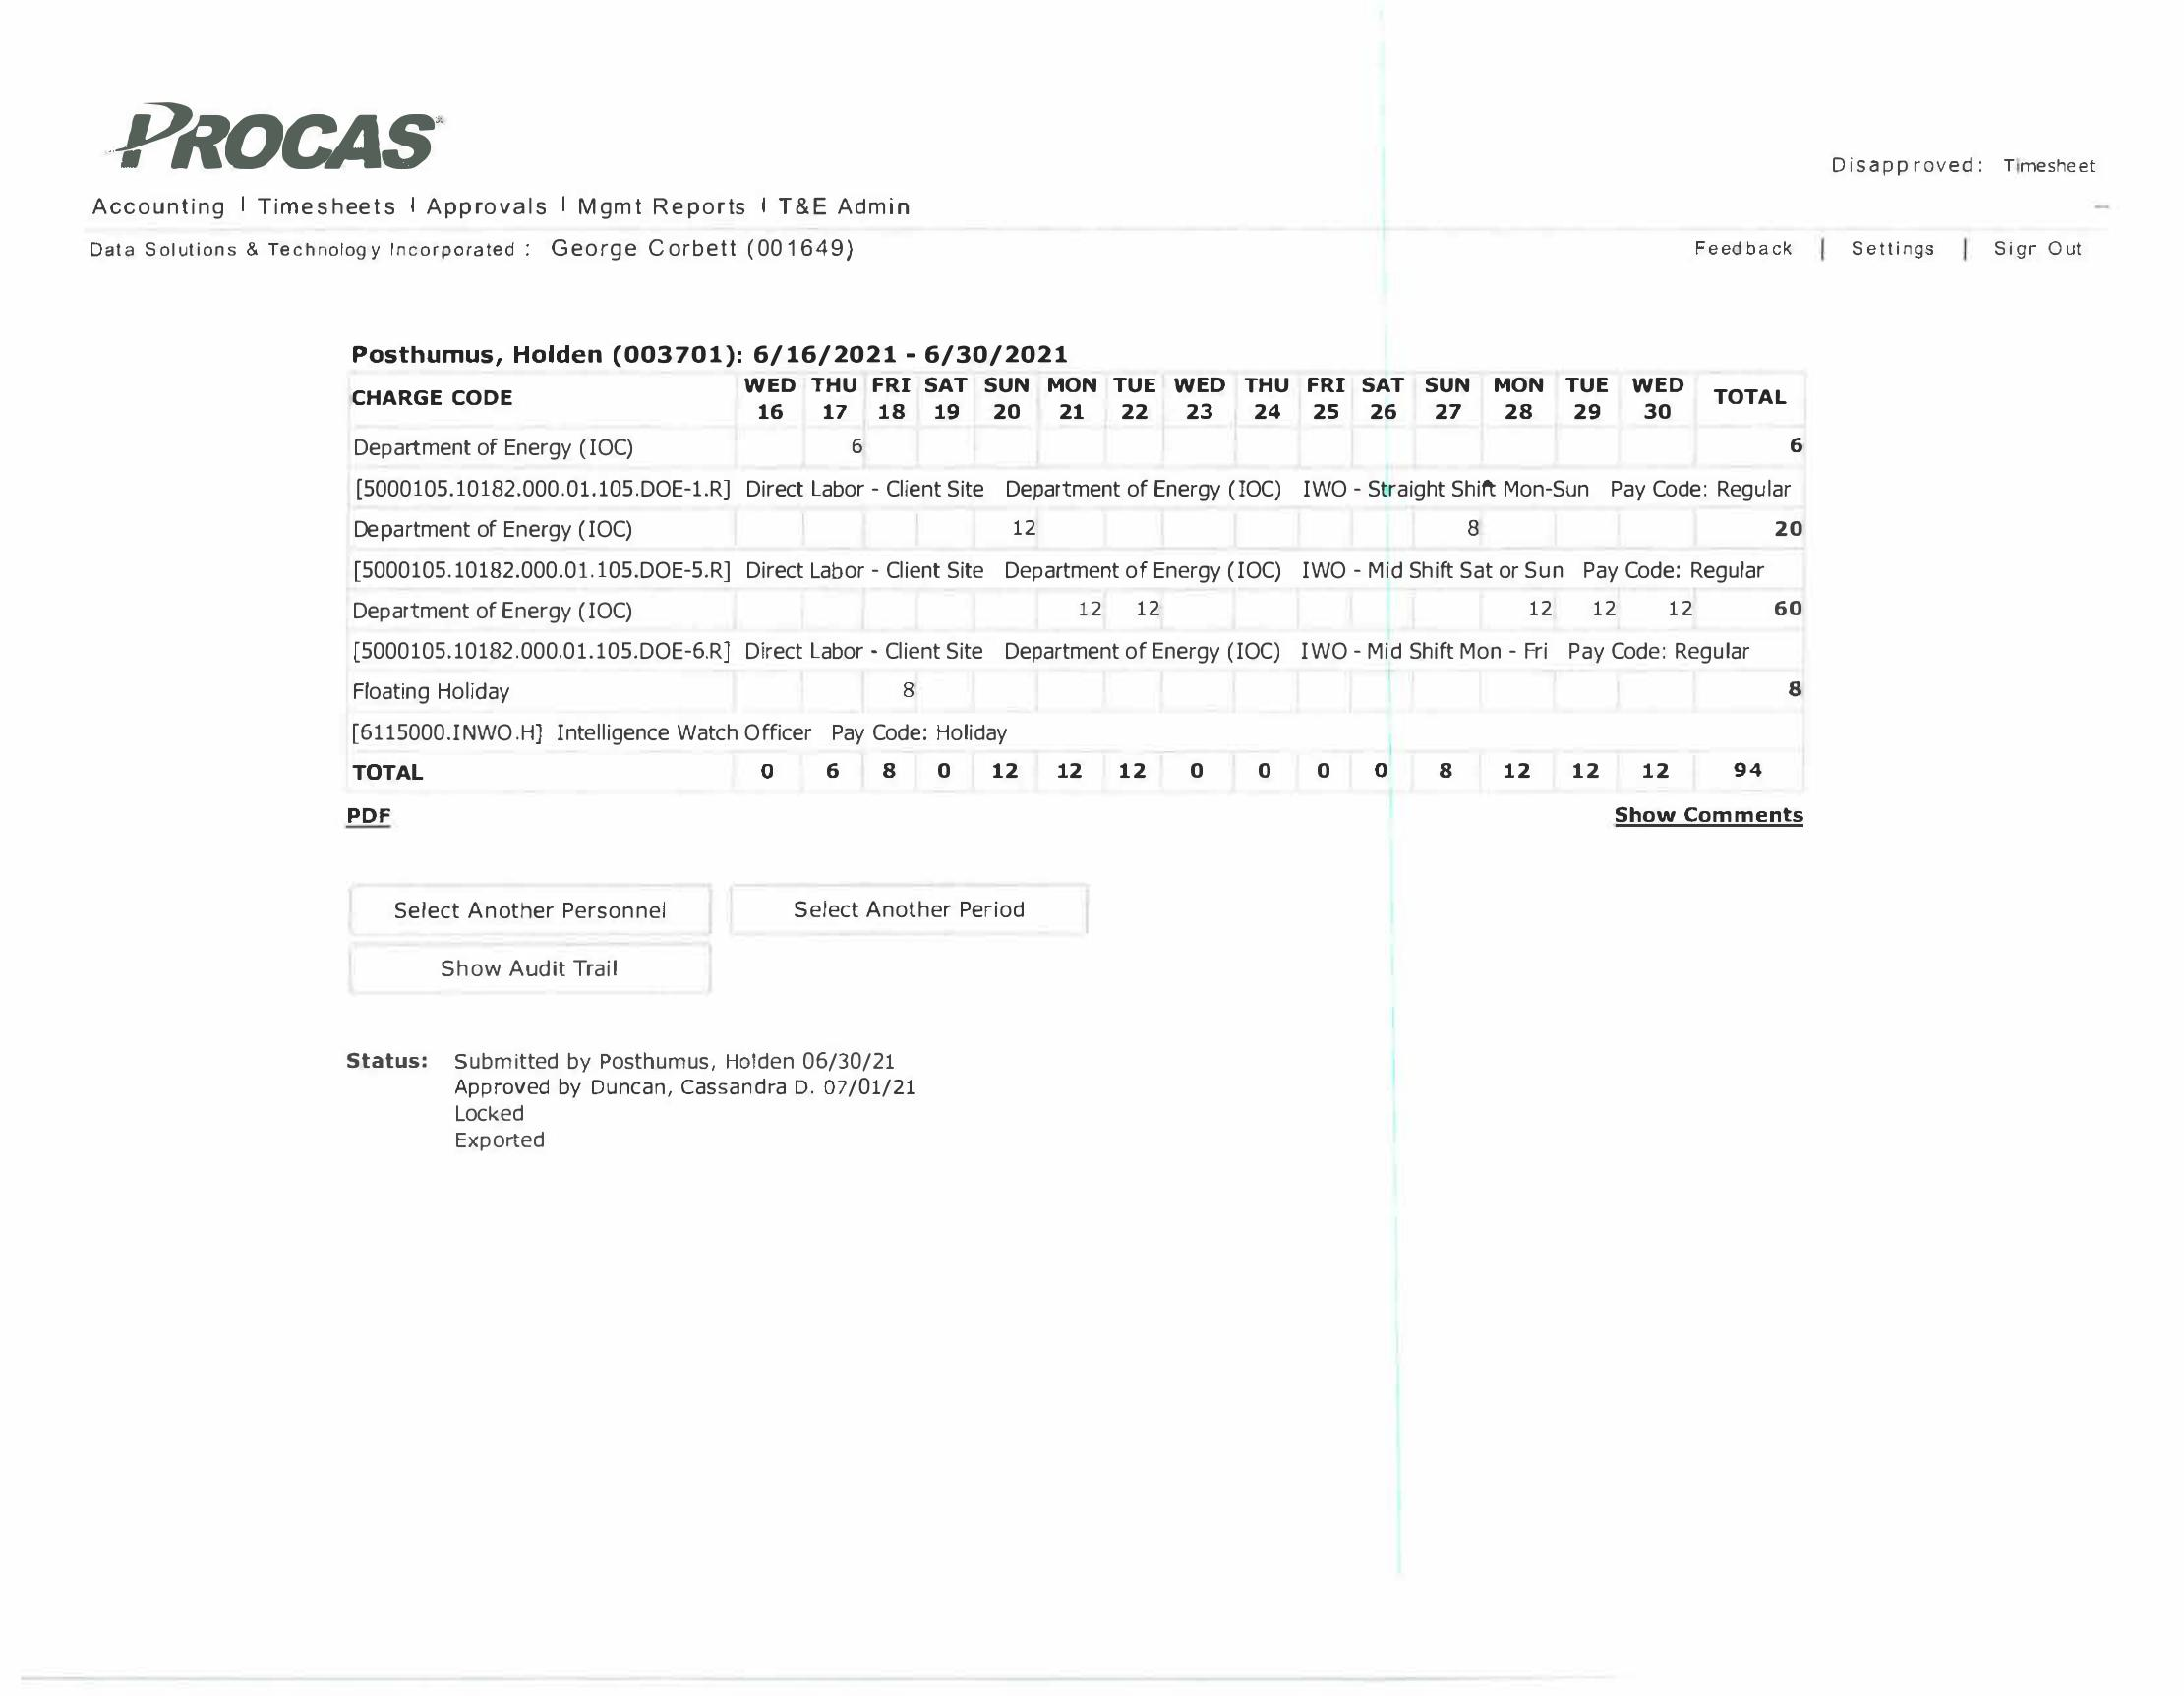table: (340, 362, 1822, 792)
